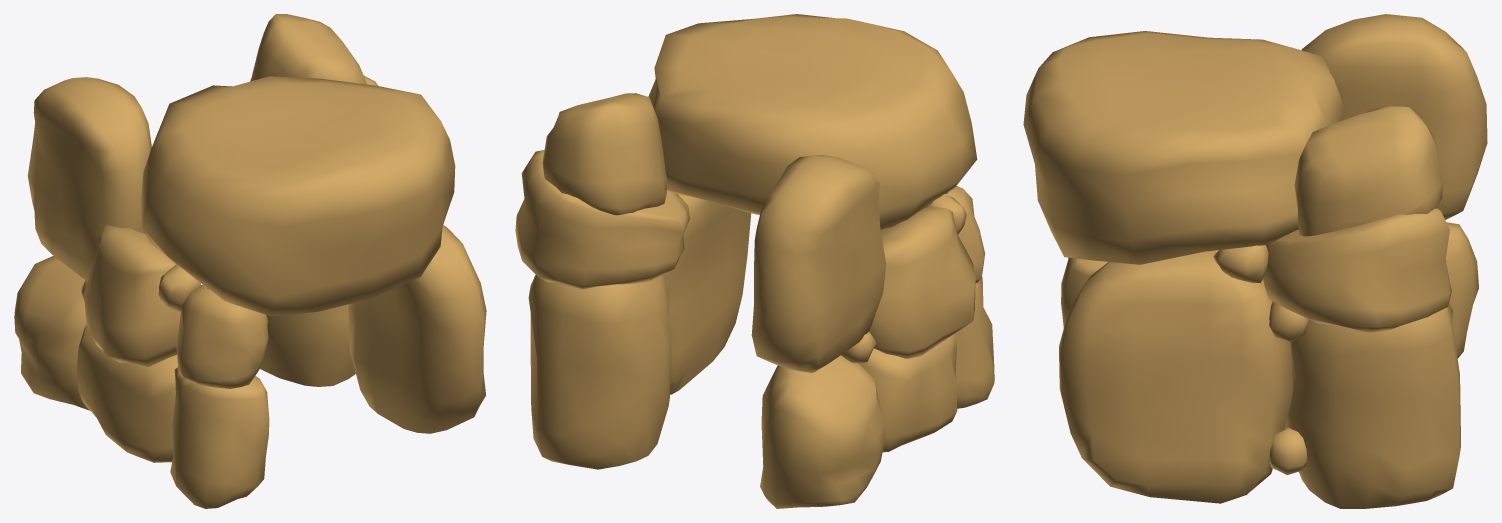
Rendered from Mode_PassageHerbeDestructible.fbx.
3 views of the same model, side by side, from view 1: azimuth 30°, elevation 25°; view 2: azimuth 150°, elevation 25°; view 3: azimuth 270°, elevation 25° (orthographic). The views are drawn at different scales.
Visible parts, largest first — view 1: passage_Chelou; view 2: passage_Chelou; view 3: passage_Chelou.
Boxes of the visible parts, box(x1,y1,x2,y2) form: passage_Chelou: box(14, 14, 486, 508); passage_Chelou: box(515, 14, 994, 508); passage_Chelou: box(1023, 14, 1487, 508).
Bounding box in the file's own units: 1505 × 1344 × 1526.
